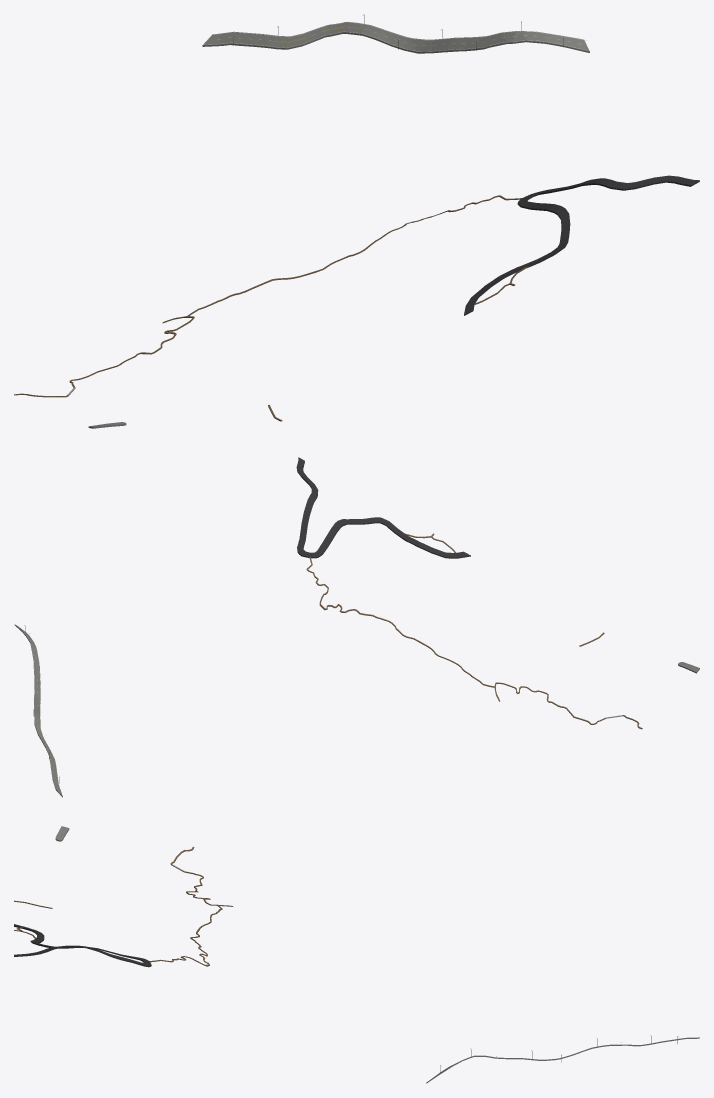
The picture shows the model from 3 angles, top to bottom: view 1: azimuth 30°, elevation 25°; view 2: azimuth 150°, elevation 25°; view 3: azimuth 270°, elevation 25°; orthographic projection. The views are drawn at different scales.
Bounding box in the file's own units: 588 × 124 × 583.
